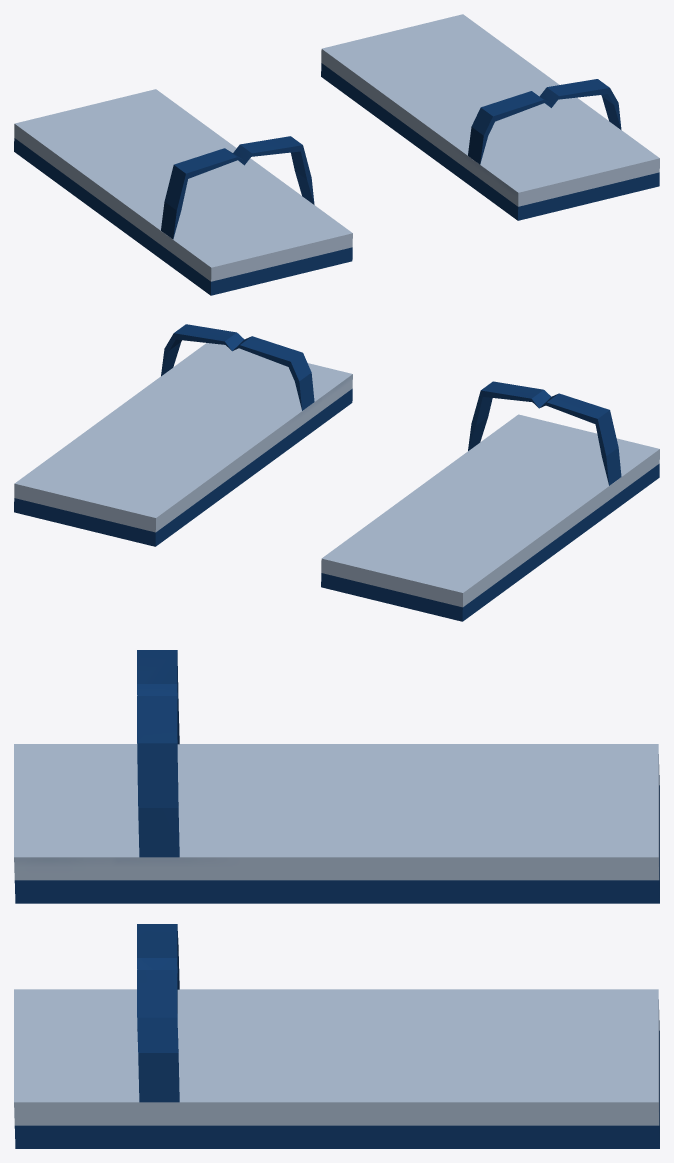
Rendered from Base_Flipflop.fbx.
The picture shows the model from 3 angles, top to bottom: view 1: azimuth 30°, elevation 25°; view 2: azimuth 150°, elevation 25°; view 3: azimuth 270°, elevation 25°; orthographic projection. The views are drawn at different scales.
Visible parts, largest first — view 1: Right__Flipflop, Left__Flipflop; view 2: Right__Flipflop, Left__Flipflop; view 3: Right__Flipflop, Left__Flipflop.
Boxes of the visible parts, bbox=[...] form: Right__Flipflop: bbox=[14, 89, 352, 295]; Left__Flipflop: bbox=[321, 14, 659, 220]; Right__Flipflop: bbox=[321, 381, 659, 621]; Left__Flipflop: bbox=[14, 324, 352, 546]; Right__Flipflop: bbox=[14, 650, 659, 903]; Left__Flipflop: bbox=[14, 924, 659, 1148].
Size of the model in its own units: 56.48 by 11.56 by 43.03.
1 material, 1 textured.
